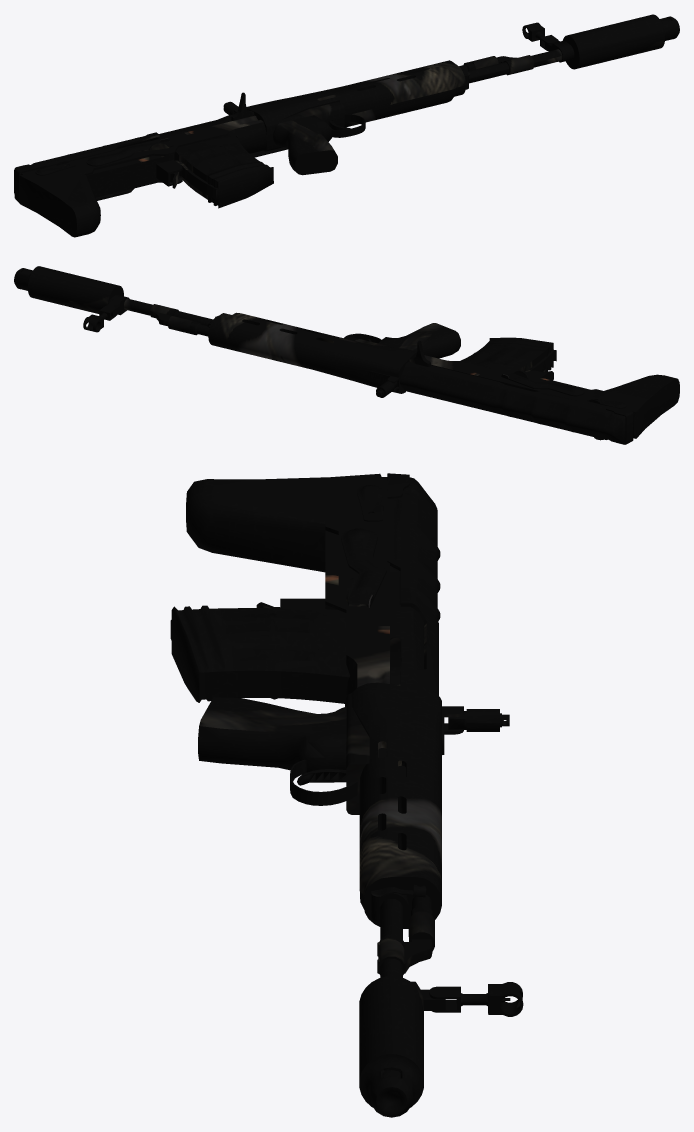
The model's file is svu.obj.
The picture shows the model from 3 angles, top to bottom: view 1: azimuth 30°, elevation 25°; view 2: azimuth 150°, elevation 25°; view 3: azimuth 270°, elevation 25°; orthographic projection. The views are drawn at different scales.
Parts seen in each view (by area): view 1: gunModel, ammoModel, slideModel; view 2: gunModel, ammoModel, slideModel; view 3: gunModel, ammoModel, slideModel.
Boxes of the visible parts, left/top/right/bottom form: gunModel: left=14, top=14, right=679, bottom=237; ammoModel: left=174, top=136, right=273, bottom=208; slideModel: left=151, top=92, right=254, bottom=140; gunModel: left=14, top=266, right=679, bottom=444; ammoModel: left=460, top=337, right=556, bottom=371; slideModel: left=409, top=340, right=500, bottom=391; gunModel: left=186, top=473, right=523, bottom=1117; ammoModel: left=170, top=605, right=349, bottom=703; slideModel: left=390, top=605, right=424, bottom=685.
Size of the model in its own units: 45.17 by 3.68 by 11.21.
